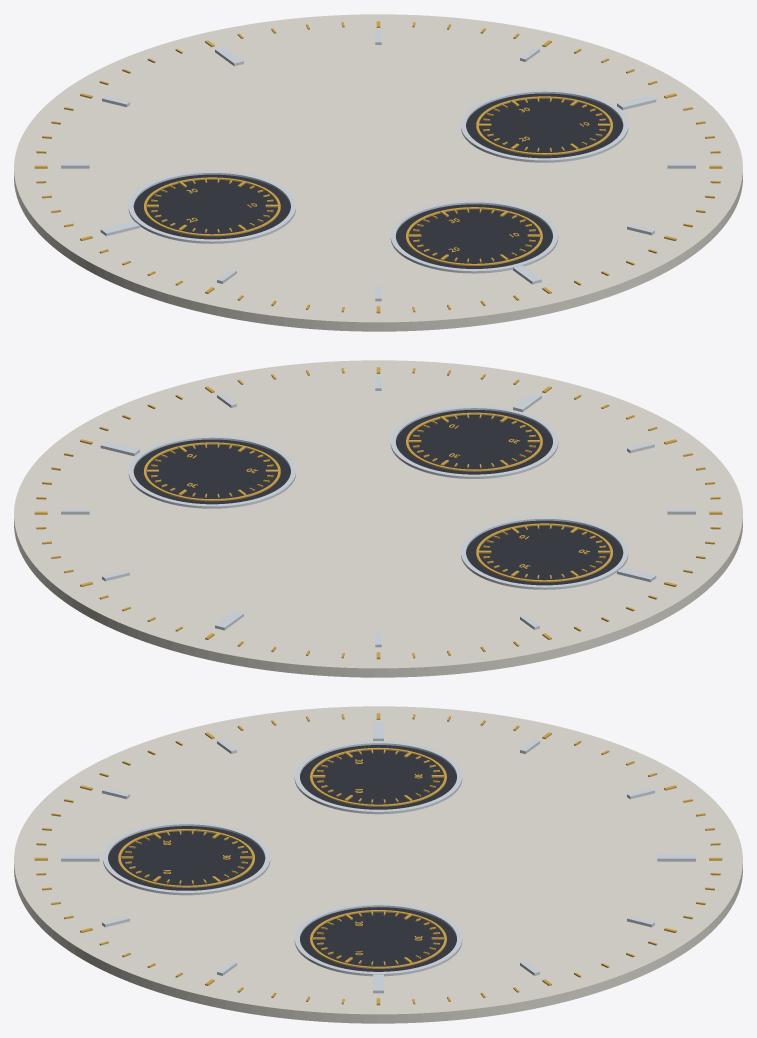
Rendered from dial-chronograph.glb.
3 renders of one model, top to bottom at view 1: azimuth 30°, elevation 25°; view 2: azimuth 150°, elevation 25°; view 3: azimuth 270°, elevation 25°, orthographic.
Parts seen in each view (by area): view 1: DD_ARCH_DIAL_FACE, DD_ARCH_REGISTER_ASSEMBLY_0, DD_ARCH_REGISTER_ASSEMBLY_1, DD_ARCH_REGISTER_ASSEMBLY_2, DD_ARCH_CHRONO_HOUR_MARKERS, DD_ARCH_CHRONO_MINUTE_TRACK; view 2: DD_ARCH_DIAL_FACE, DD_ARCH_REGISTER_ASSEMBLY_0, DD_ARCH_REGISTER_ASSEMBLY_1, DD_ARCH_REGISTER_ASSEMBLY_2, DD_ARCH_CHRONO_HOUR_MARKERS, DD_ARCH_CHRONO_MINUTE_TRACK; view 3: DD_ARCH_DIAL_FACE, DD_ARCH_REGISTER_ASSEMBLY_0, DD_ARCH_REGISTER_ASSEMBLY_2, DD_ARCH_REGISTER_ASSEMBLY_1, DD_ARCH_CHRONO_HOUR_MARKERS, DD_ARCH_CHRONO_MINUTE_TRACK.
Part boxes in pixels (x1,y1,x2,y2): DD_ARCH_DIAL_FACE: [14, 14, 742, 331]; DD_ARCH_REGISTER_ASSEMBLY_0: [128, 170, 295, 243]; DD_ARCH_REGISTER_ASSEMBLY_1: [461, 89, 628, 162]; DD_ARCH_REGISTER_ASSEMBLY_2: [390, 200, 558, 273]; DD_ARCH_CHRONO_HOUR_MARKERS: [61, 30, 695, 301]; DD_ARCH_CHRONO_MINUTE_TRACK: [34, 21, 722, 313]; DD_ARCH_DIAL_FACE: [14, 360, 742, 677]; DD_ARCH_REGISTER_ASSEMBLY_0: [461, 516, 628, 589]; DD_ARCH_REGISTER_ASSEMBLY_1: [128, 435, 295, 508]; DD_ARCH_REGISTER_ASSEMBLY_2: [390, 406, 558, 478]; DD_ARCH_CHRONO_HOUR_MARKERS: [61, 376, 695, 647]; DD_ARCH_CHRONO_MINUTE_TRACK: [34, 367, 722, 659]; DD_ARCH_DIAL_FACE: [14, 706, 742, 1023]; DD_ARCH_REGISTER_ASSEMBLY_0: [294, 741, 462, 814]; DD_ARCH_REGISTER_ASSEMBLY_2: [103, 822, 270, 895]; DD_ARCH_REGISTER_ASSEMBLY_1: [294, 903, 462, 976]; DD_ARCH_CHRONO_HOUR_MARKERS: [61, 722, 695, 993]; DD_ARCH_CHRONO_MINUTE_TRACK: [34, 713, 722, 1005].
Bounding box in the file's own units: 28.5 × 0.57 × 28.5.
